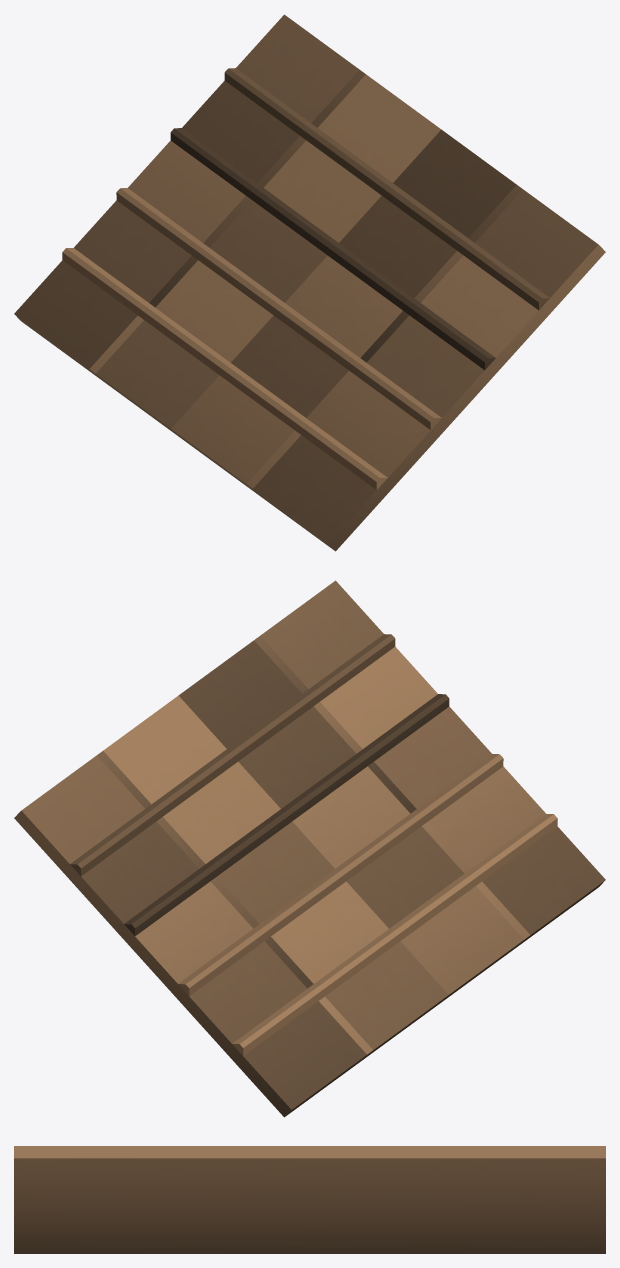
Rendered from cabin_Roof_L.obj.
3 renders of one model, top to bottom at view 1: azimuth 30°, elevation 25°; view 2: azimuth 150°, elevation 25°; view 3: azimuth 270°, elevation 25°, orthographic. The views are drawn at different scales.
Visible parts, largest first — view 1: cabin_Roof_L; view 2: cabin_Roof_L; view 3: cabin_Roof_L.
Boxes of the visible parts, bbox=[...] form: cabin_Roof_L: bbox=[14, 14, 605, 551]; cabin_Roof_L: bbox=[14, 580, 605, 1117]; cabin_Roof_L: bbox=[14, 1146, 605, 1253].
Bounding box in the file's own units: 4.75 × 3.97 × 9.31.
